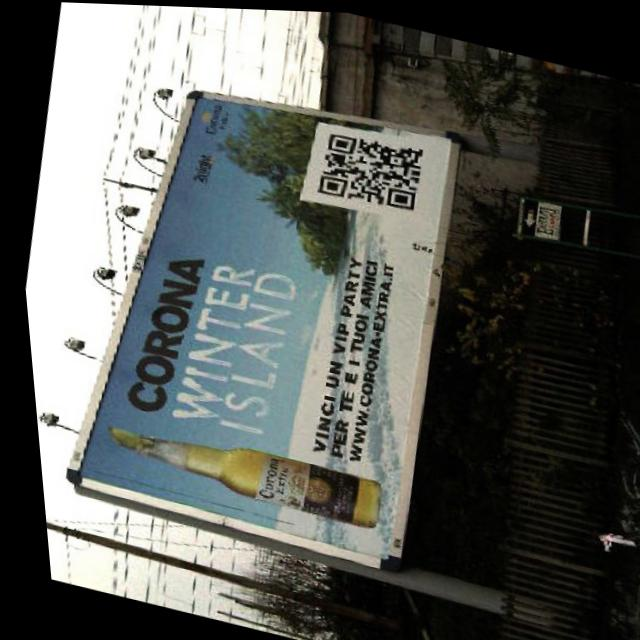qrcode: (310, 124, 423, 212)
